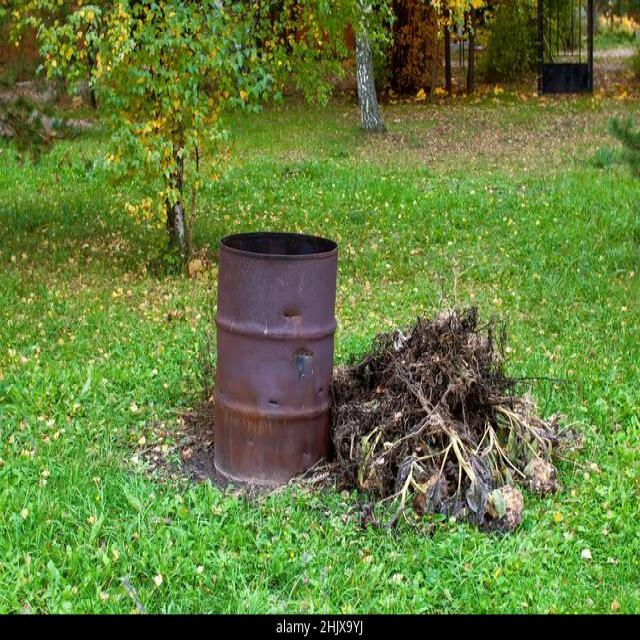metal: (196, 218, 340, 489)
trash: (365, 301, 548, 534)
